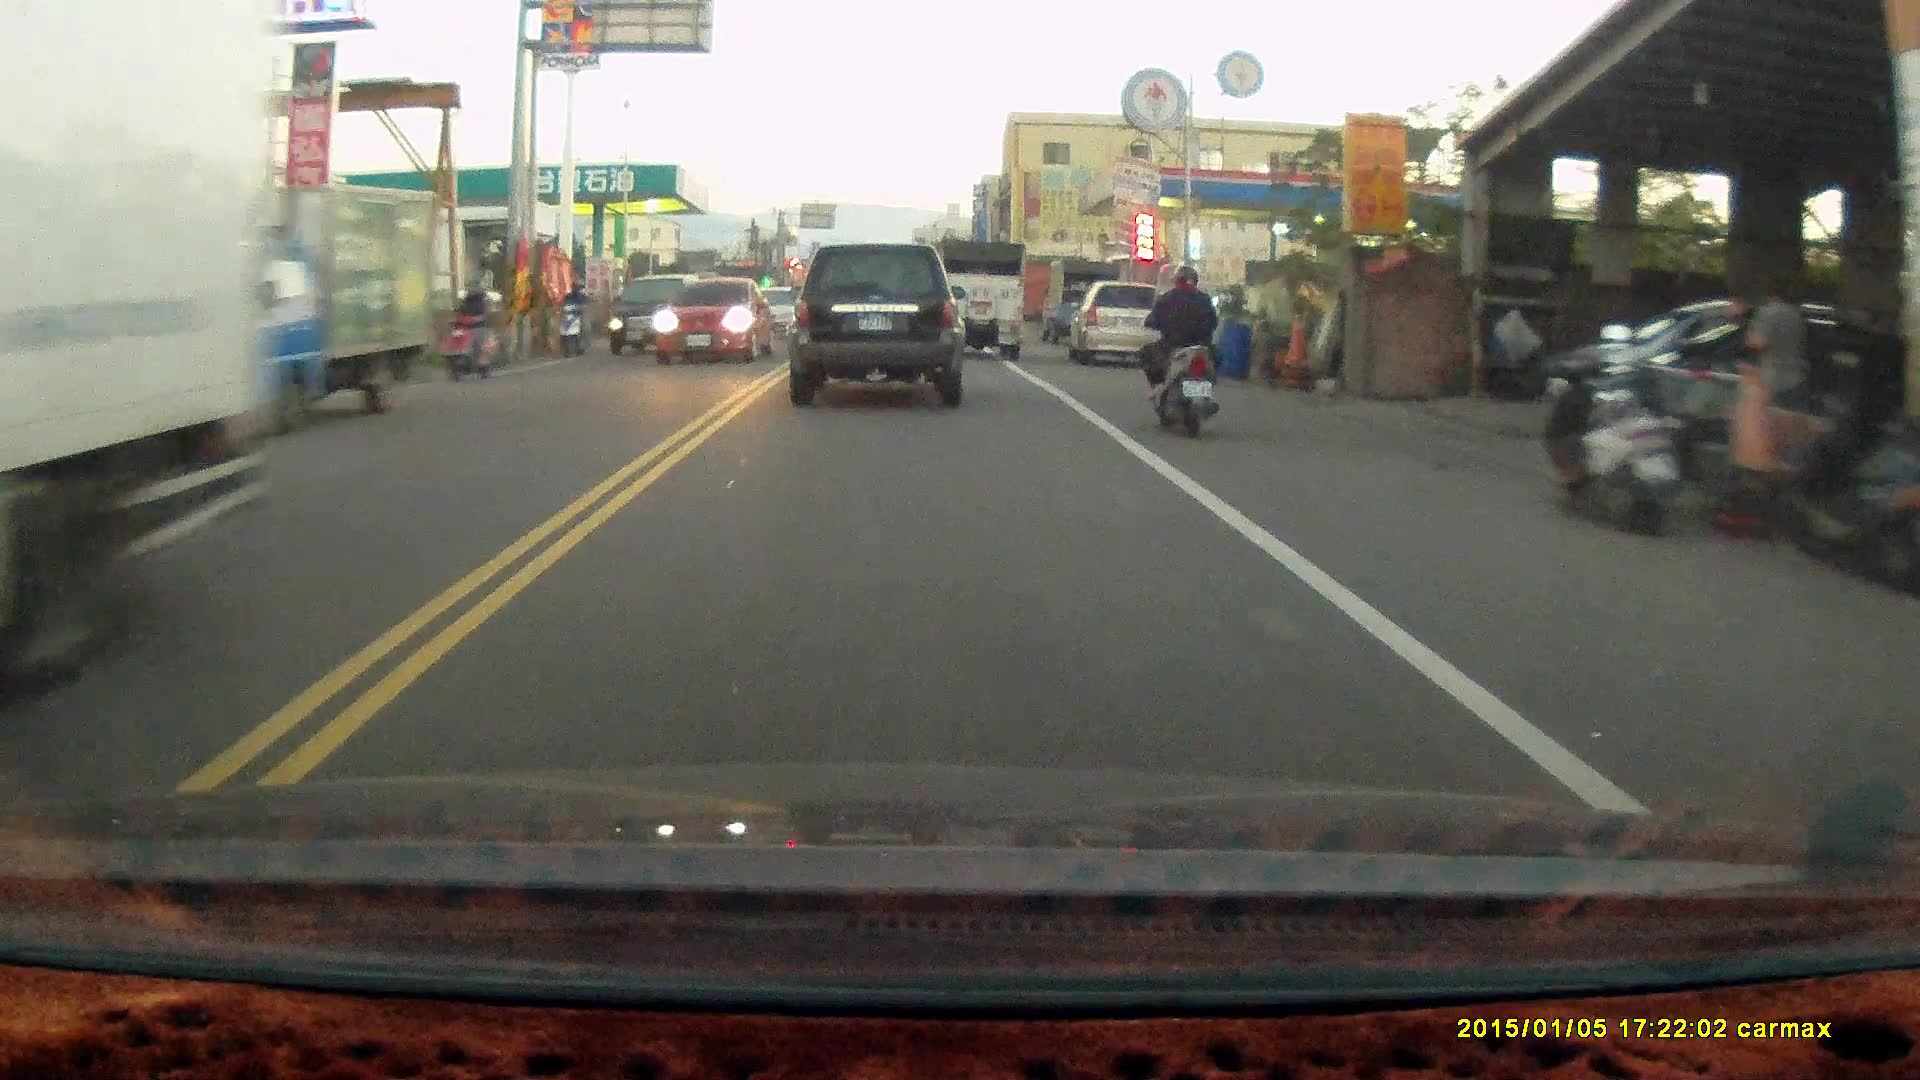pedestrian: (1744, 280, 1807, 440)
rider: (1139, 267, 1231, 444), (436, 278, 508, 379), (558, 281, 594, 358)
vehicle: (1, 13, 273, 653), (123, 179, 441, 446), (784, 243, 967, 411), (935, 240, 1028, 363), (657, 284, 782, 370), (1072, 284, 1174, 373), (609, 276, 706, 358)
